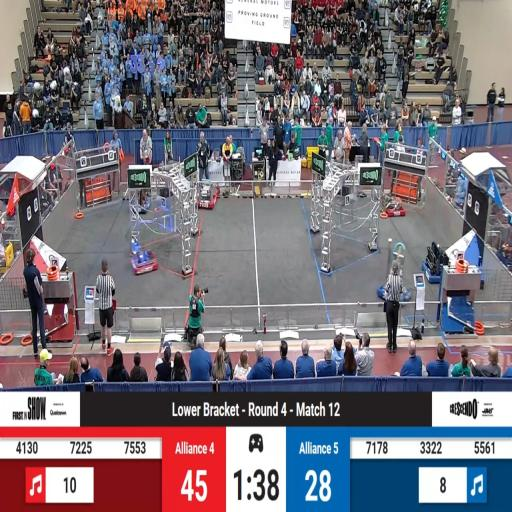robot: (378, 243, 409, 303), (421, 242, 448, 282), (132, 246, 160, 275), (375, 195, 406, 217), (198, 185, 218, 209)
